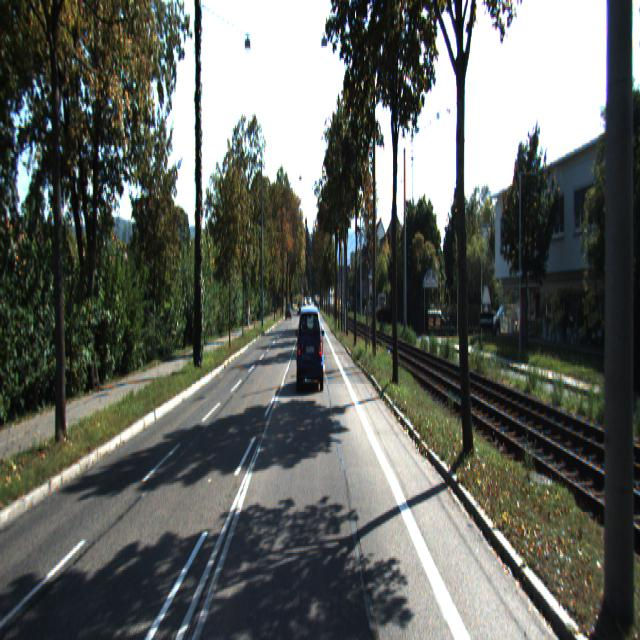Car: (296, 304, 325, 394)
